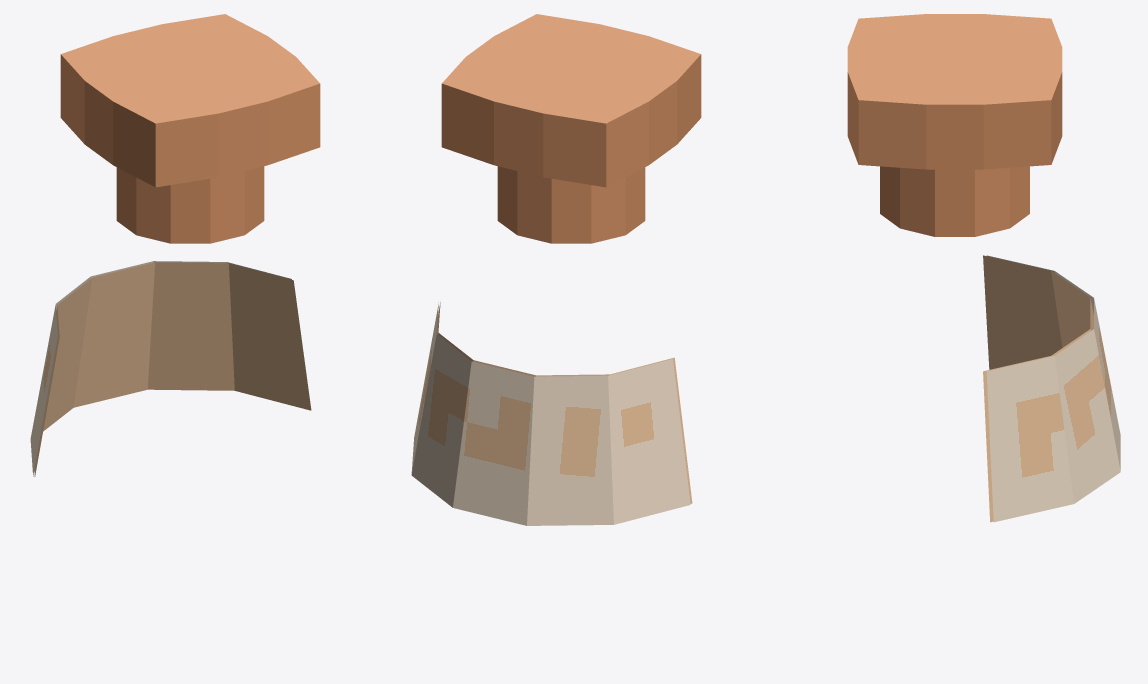
Rendered from alcohol.fbx.
3 views of the same model, side by side, from view 1: azimuth 30°, elevation 25°; view 2: azimuth 150°, elevation 25°; view 3: azimuth 270°, elevation 25° (orthographic).
Visible parts, largest first — view 1: opaque; view 2: opaque; view 3: opaque.
Part boxes in pixels (x1,y1,x2,y2): opaque: (30,14,320,476); opaque: (411,14,701,525); opaque: (847,14,1120,522).
Bounding box in the file's own units: 62.5 × 103 × 62.5.
Materials: 1 (1 with a texture image).
